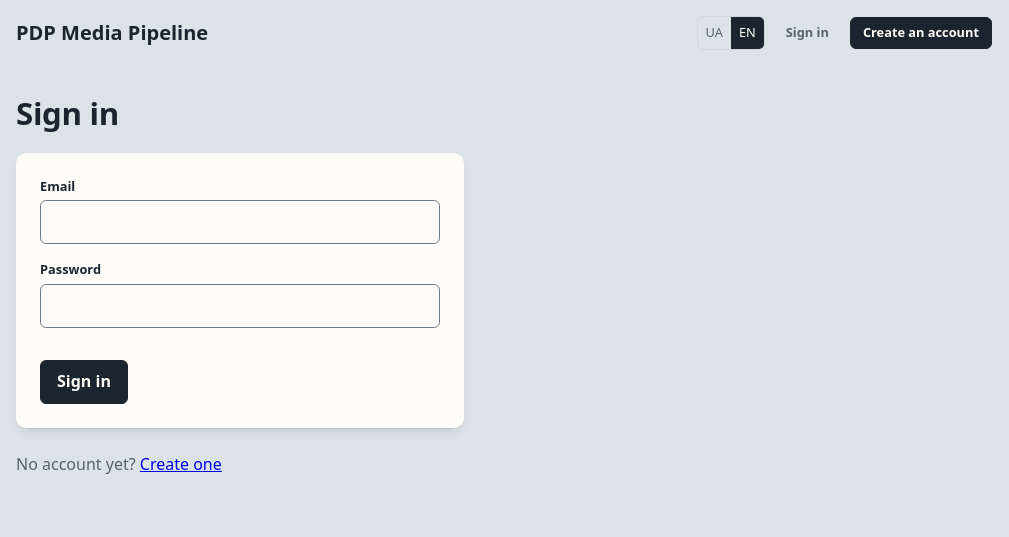
Test case: signing in › checks the fields before asking the server
The image size is (1009, 537).
Click the button "Sign in" at (84, 382), box 40,360 -> 128,404
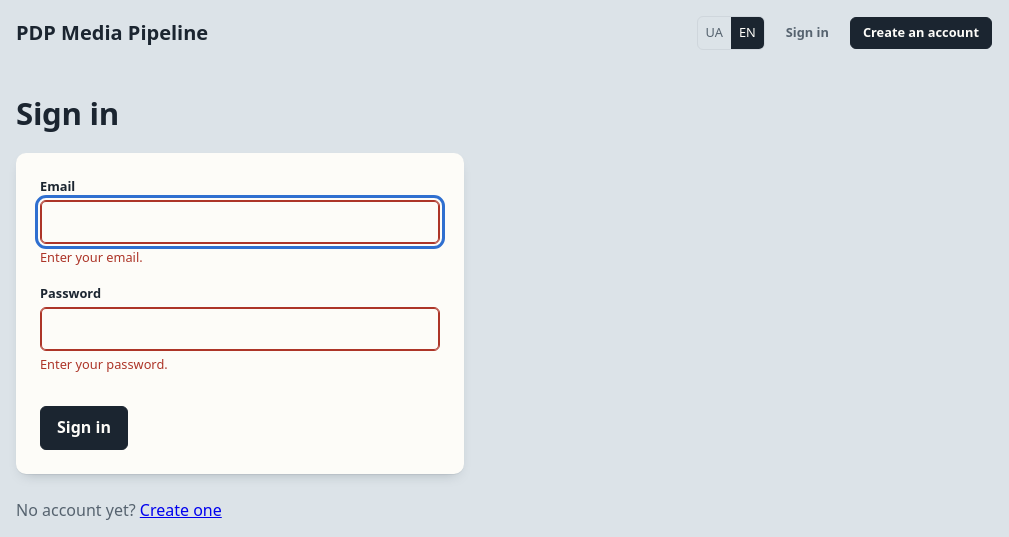
Result: the text "Enter your email." is shown at 40,248 -> 143,266
